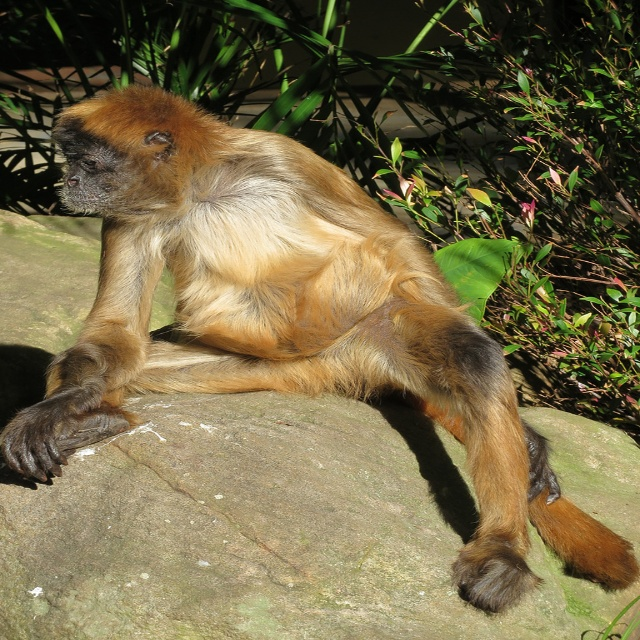Monkey: (0, 81, 639, 615)
